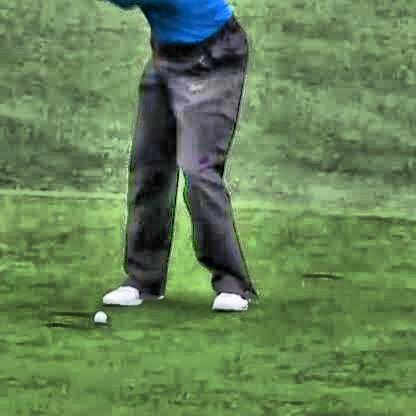golfball: (91, 308, 107, 321)
